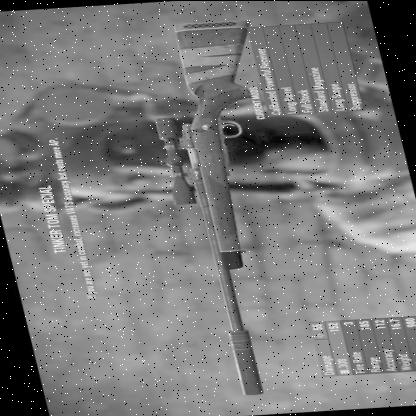rifle: (141, 17, 335, 399)
